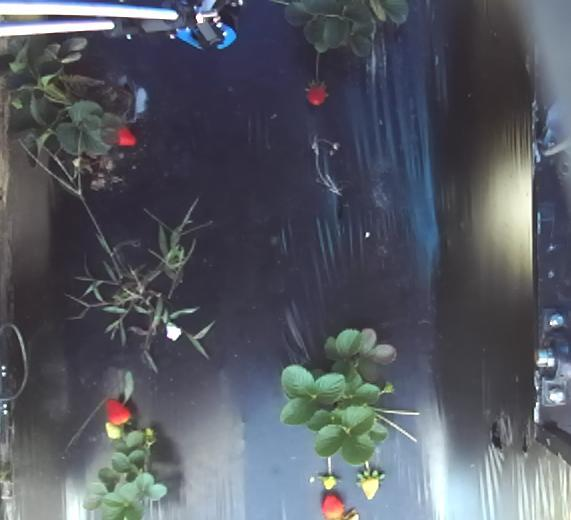mature: (105, 398, 131, 426), (303, 78, 328, 106), (320, 490, 344, 519), (115, 124, 137, 148)
